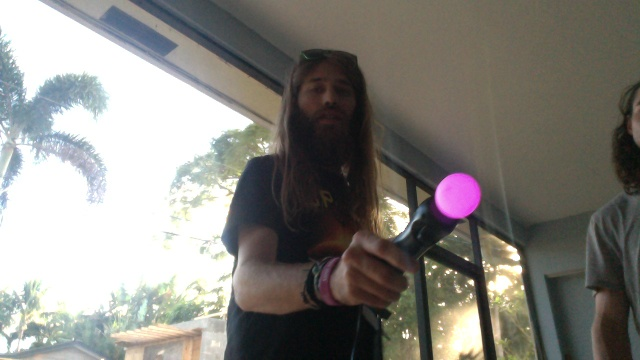wand: (436, 174, 480, 219)
